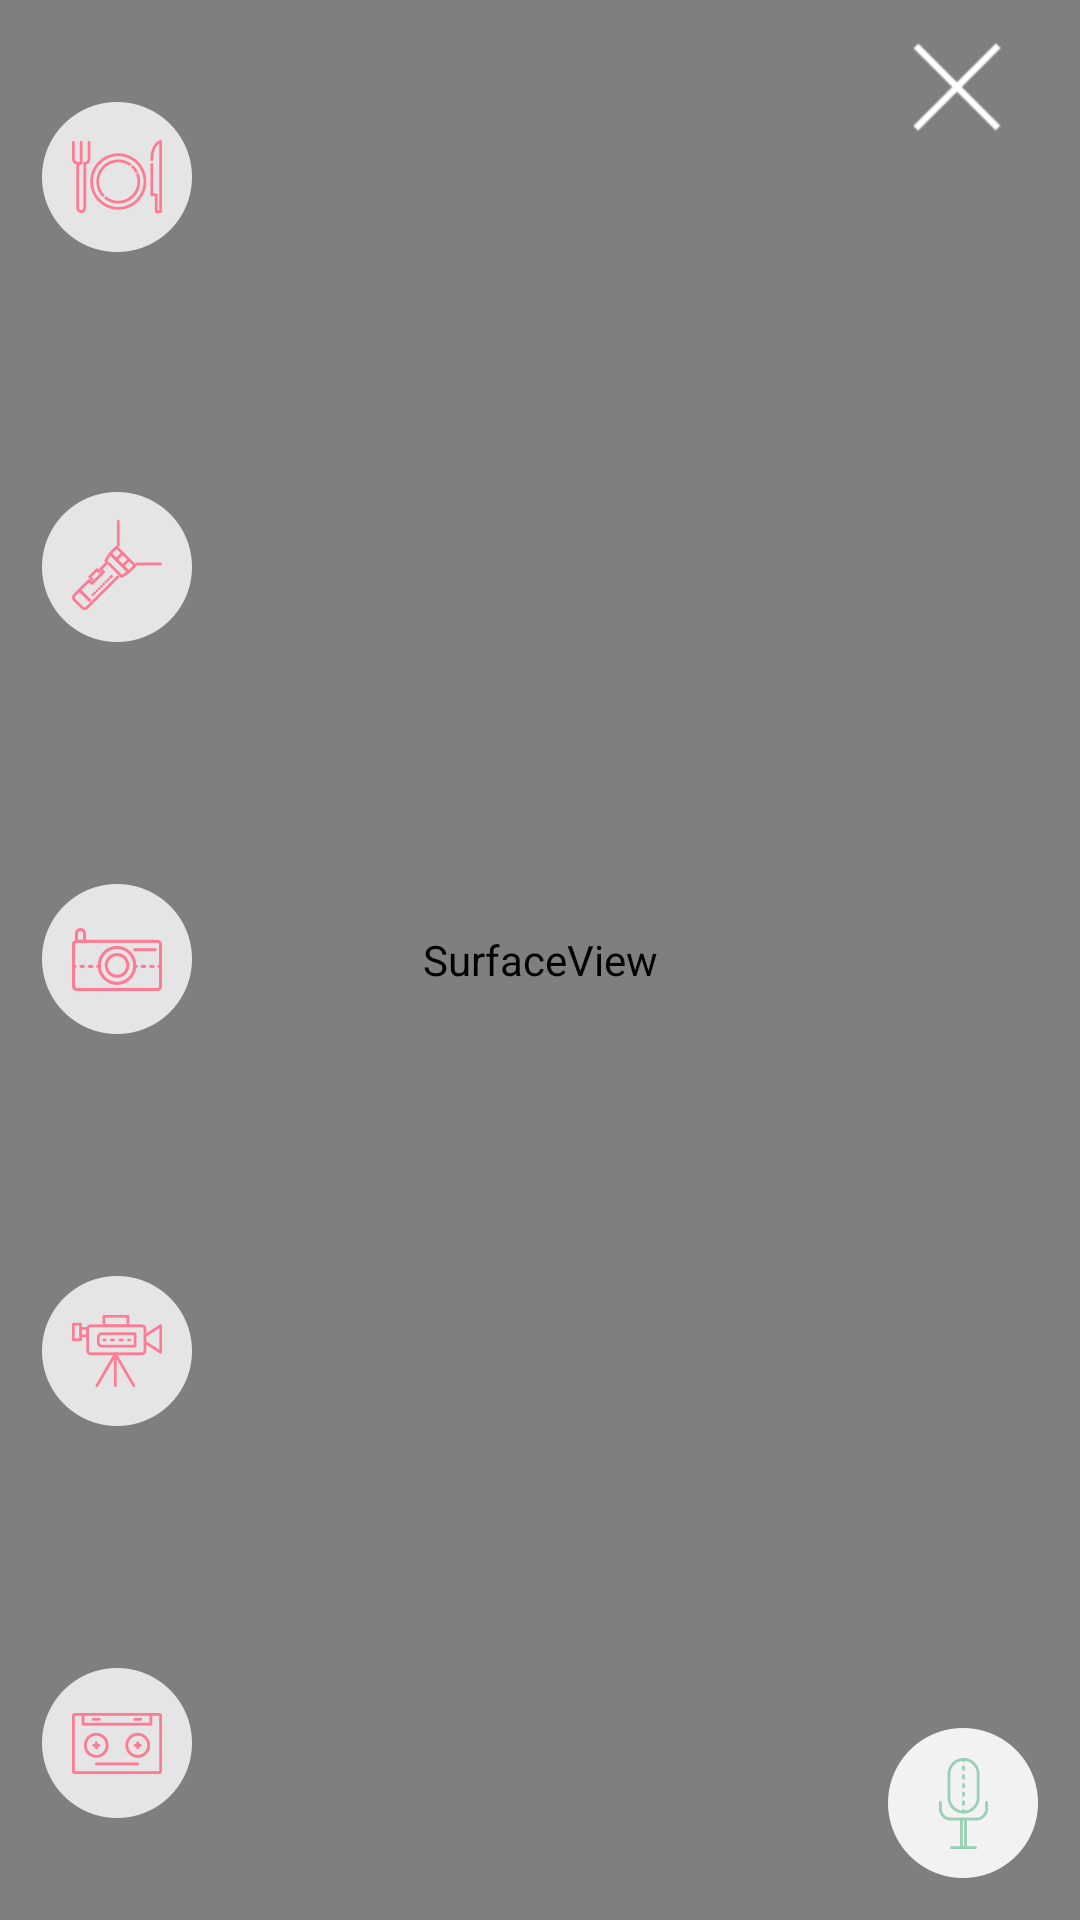

Icon click points for this 1080x1920 phone screenshot, format [x,y]:
food off: [117,177]
re close: [957,87]
